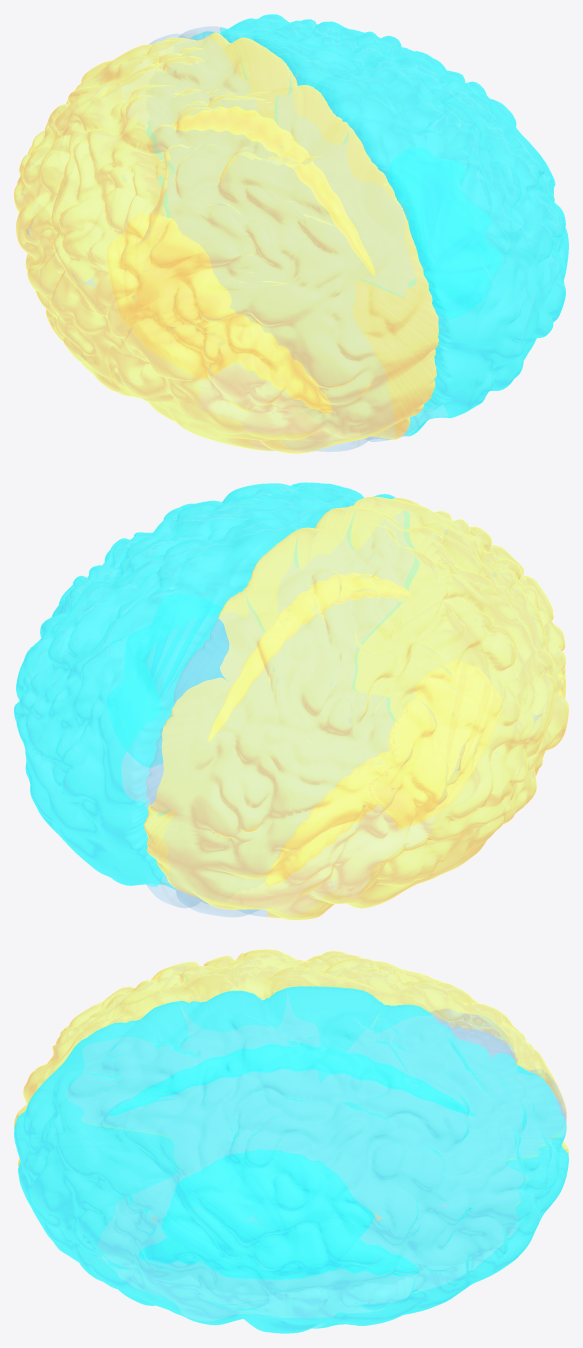
Rendered from nervis-hologram-brain.glb.
The picture shows the model from 3 angles, top to bottom: view 1: azimuth 30°, elevation 25°; view 2: azimuth 150°, elevation 25°; view 3: azimuth 270°, elevation 25°; orthographic projection. The views are drawn at different scales.
Visible parts, largest first — view 1: ROI_11_Prefrontal_R, ROI_01_Prefrontal_L, ROI_12_Motor_Premotor_R, ROI_13_Somatosensory_R, ROI_18_Occipital_Visual_R, ROI_16_Middle_Inferior_Temporal_R, ROI_20_Insula_R, ROI_14_Posterior_Parietal_R, ROI_10_Insula_L, ROI_02_Motor_Premotor_L, ROI_15_Superior_Temporal_R, ROI_05_Superior_Temporal_L (+8 smaller); view 2: ROI_18_Occipital_Visual_R, ROI_14_Posterior_Parietal_R, ROI_08_Occipital_Visual_L, ROI_11_Prefrontal_R, ROI_13_Somatosensory_R, ROI_15_Superior_Temporal_R, ROI_04_Posterior_Parietal_L, ROI_12_Motor_Premotor_R, ROI_20_Insula_R, ROI_16_Middle_Inferior_Temporal_R, ROI_10_Insula_L, ROI_05_Superior_Temporal_L (+9 smaller); view 3: ROI_01_Prefrontal_L, ROI_05_Superior_Temporal_L, ROI_03_Somatosensory_L, ROI_04_Posterior_Parietal_L, ROI_10_Insula_L, ROI_08_Occipital_Visual_L, ROI_02_Motor_Premotor_L, ROI_06_Middle_Inferior_Temporal_L, ROI_09_Cingulate_L, ROI_11_Prefrontal_R, Cortex_Shell_R, ROI_12_Motor_Premotor_R (+5 smaller).
Boxes of the visible parts, x1,y1,x2,y2 form: ROI_11_Prefrontal_R: (135, 125, 438, 452); ROI_01_Prefrontal_L: (355, 111, 565, 436); ROI_12_Motor_Premotor_R: (92, 66, 348, 296); ROI_13_Somatosensory_R: (29, 37, 289, 282); ROI_18_Occipital_Visual_R: (14, 52, 170, 302); ROI_16_Middle_Inferior_Temporal_R: (53, 276, 307, 453); ROI_20_Insula_R: (107, 213, 243, 379); ROI_14_Posterior_Parietal_R: (17, 32, 243, 229); ROI_10_Insula_L: (387, 147, 502, 318); ROI_02_Motor_Premotor_L: (297, 56, 555, 192); ROI_15_Superior_Temporal_R: (15, 199, 170, 395); ROI_05_Superior_Temporal_L: (359, 109, 568, 303); ROI_18_Occipital_Visual_R: (143, 672, 391, 911); ROI_14_Posterior_Parietal_R: (218, 578, 464, 787); ROI_08_Occipital_Visual_L: (14, 625, 170, 886); ROI_11_Prefrontal_R: (351, 496, 565, 778); ROI_13_Somatosensory_R: (246, 527, 533, 771); ROI_15_Superior_Temporal_R: (331, 686, 568, 896); ROI_04_Posterior_Parietal_L: (17, 543, 238, 693); ROI_12_Motor_Premotor_R: (298, 499, 555, 715); ROI_20_Insula_R: (368, 659, 502, 828); ROI_16_Middle_Inferior_Temporal_R: (258, 669, 568, 920); ROI_10_Insula_L: (107, 593, 225, 767); ROI_05_Superior_Temporal_L: (15, 588, 169, 816); ROI_01_Prefrontal_L: (14, 1001, 208, 1293); ROI_05_Superior_Temporal_L: (156, 1206, 471, 1314); ROI_03_Somatosensory_L: (251, 986, 383, 1232); ROI_04_Posterior_Parietal_L: (331, 1004, 491, 1217); ROI_10_Insula_L: (161, 1149, 373, 1279); ROI_08_Occipital_Visual_L: (445, 1053, 568, 1286); ROI_02_Motor_Premotor_L: (164, 988, 286, 1220); ROI_06_Middle_Inferior_Temporal_L: (82, 1208, 469, 1333); ROI_09_Cingulate_L: (109, 1043, 474, 1115); ROI_11_Prefrontal_R: (14, 965, 197, 1166); Cortex_Shell_R: (29, 955, 566, 1222); ROI_12_Motor_Premotor_R: (164, 949, 286, 1002).
Size of the model in its own units: 2.23 by 1.64 by 2.6.
